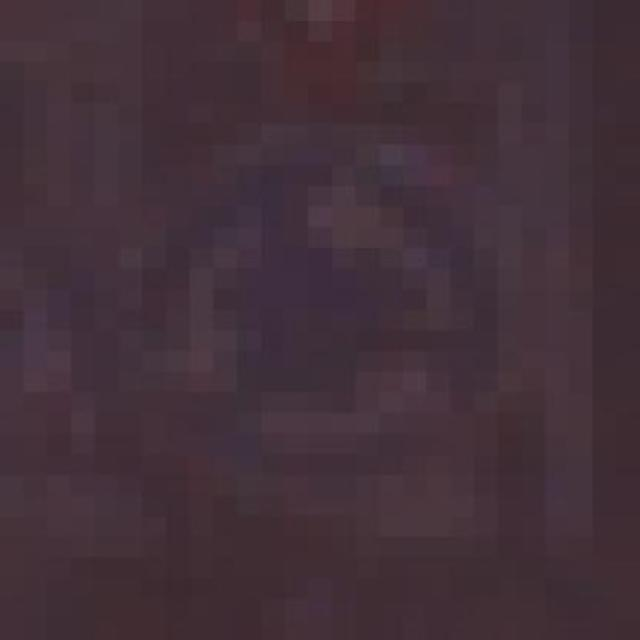Round-About: (118, 82, 545, 516)
